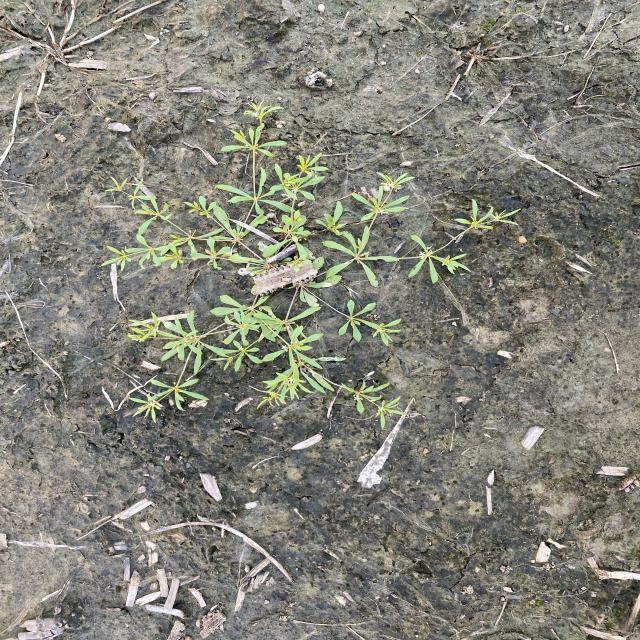Carpetweed: (98, 99, 522, 432)
